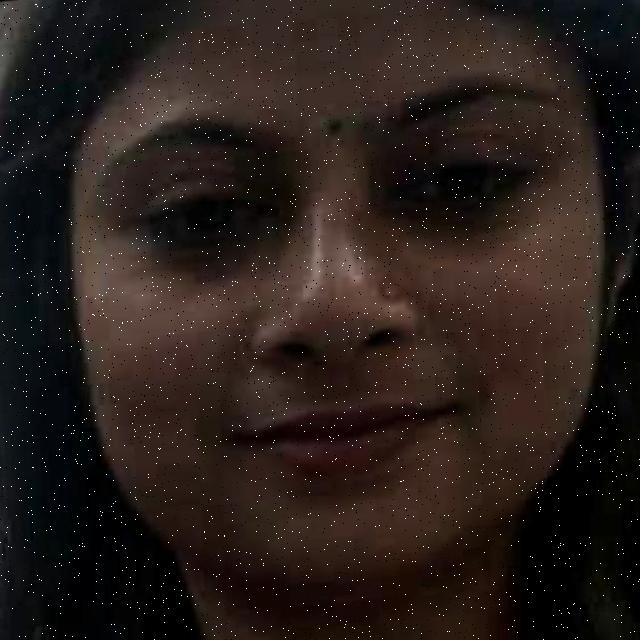puffy_eyes: (160, 217, 290, 280), (390, 204, 539, 254)
